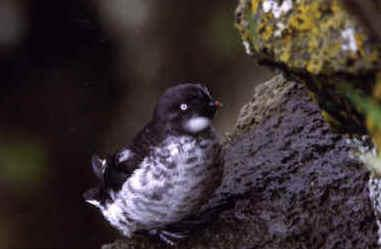006.Least_Auklet: (85, 82, 228, 248)
